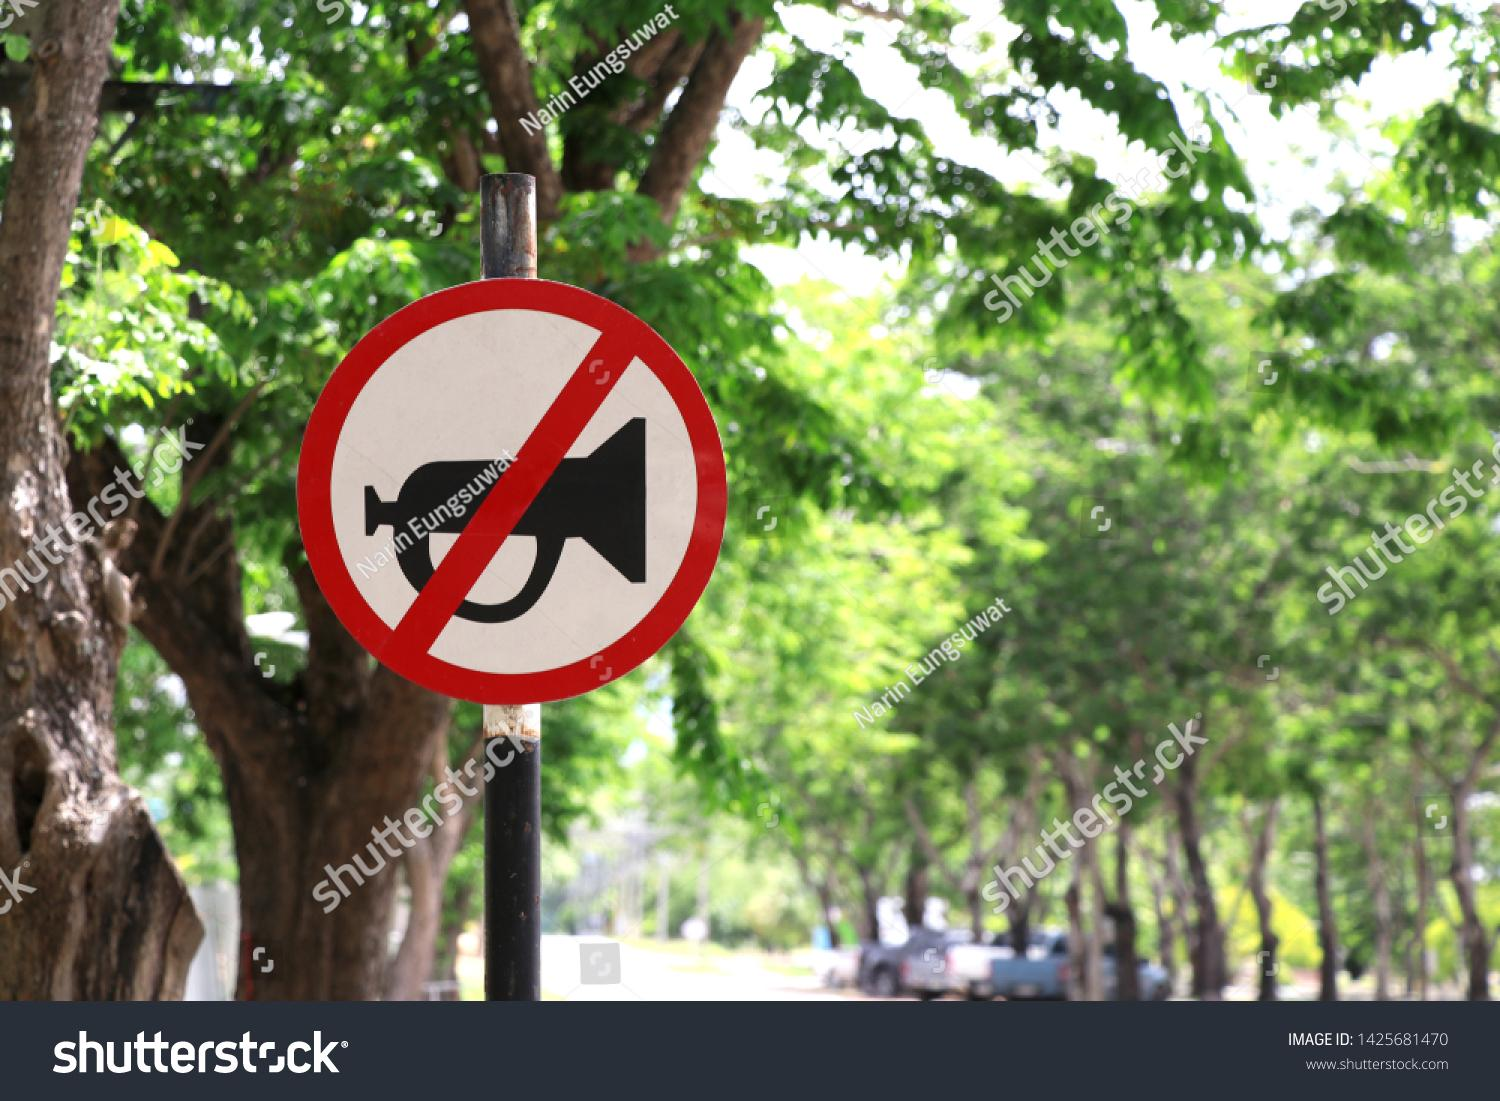Horn Prohibited: (318, 231, 740, 712)
